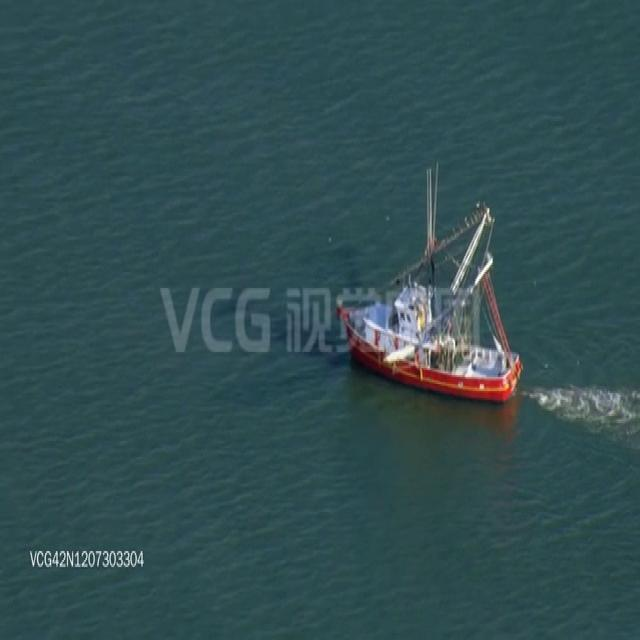houseboat: (334, 165, 526, 398)
